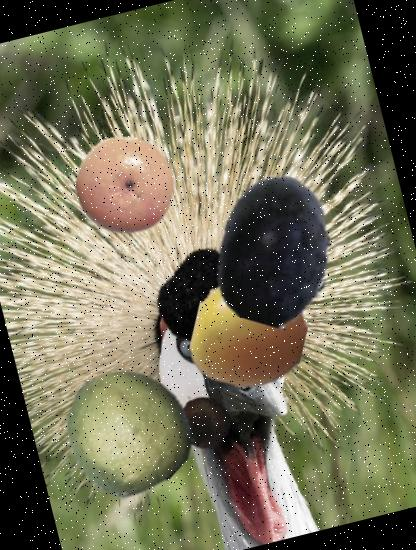Blueberry: (186, 160, 368, 341)
Cherry: (182, 266, 318, 400)
Grapefruit: (64, 125, 186, 247)
Limes: (50, 354, 204, 508)
Pear: (172, 390, 238, 456)
